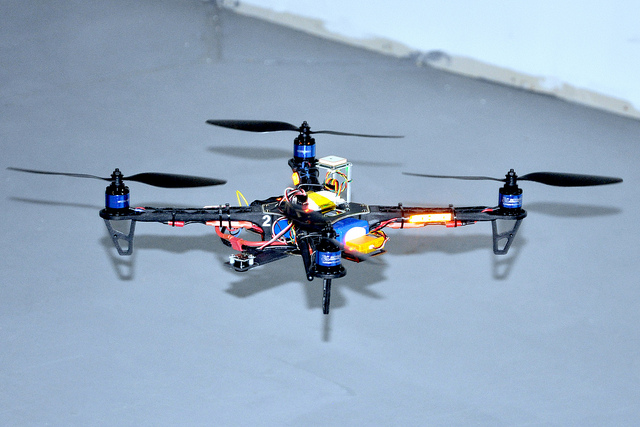drone: (5, 117, 626, 318)
shadow_of_drone: (96, 231, 530, 345)
